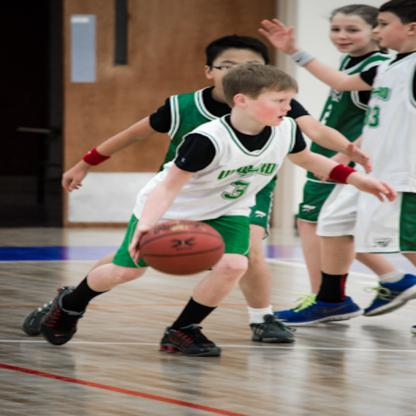Ball: (138, 218, 222, 272)
